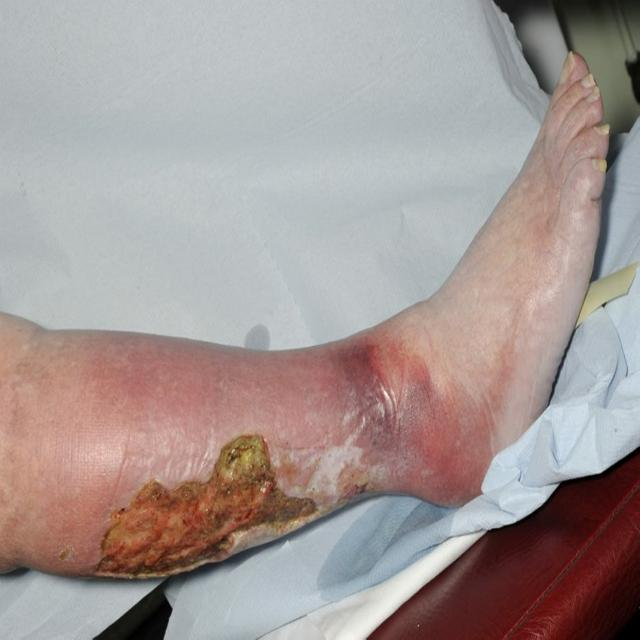wound: (93, 431, 319, 580)
